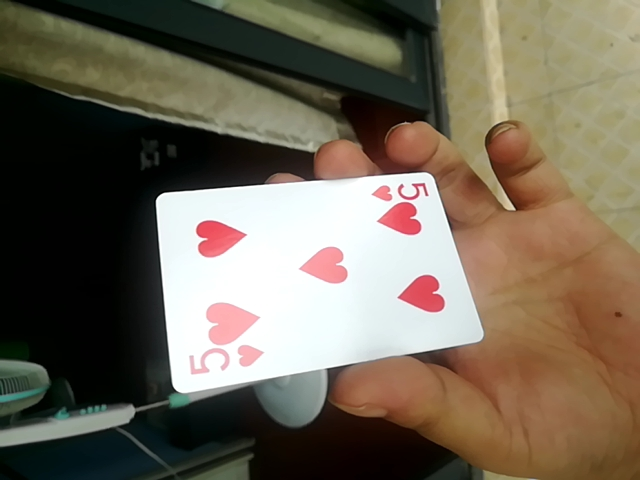hx 5: (149, 169, 482, 398)
